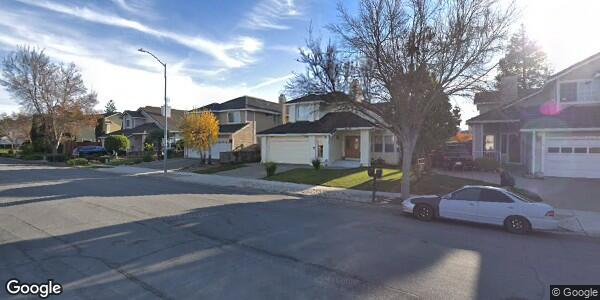Steel_Pole: (135, 46, 170, 176)
